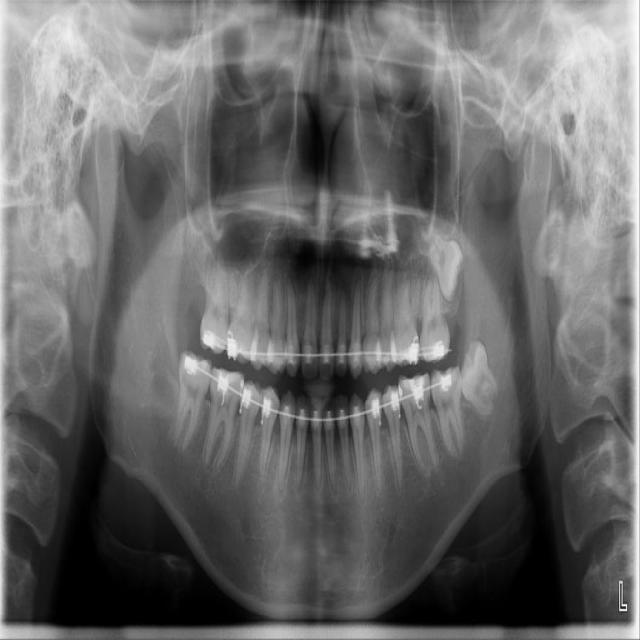impacted tooth: (418, 228, 462, 303), (462, 338, 499, 415)
